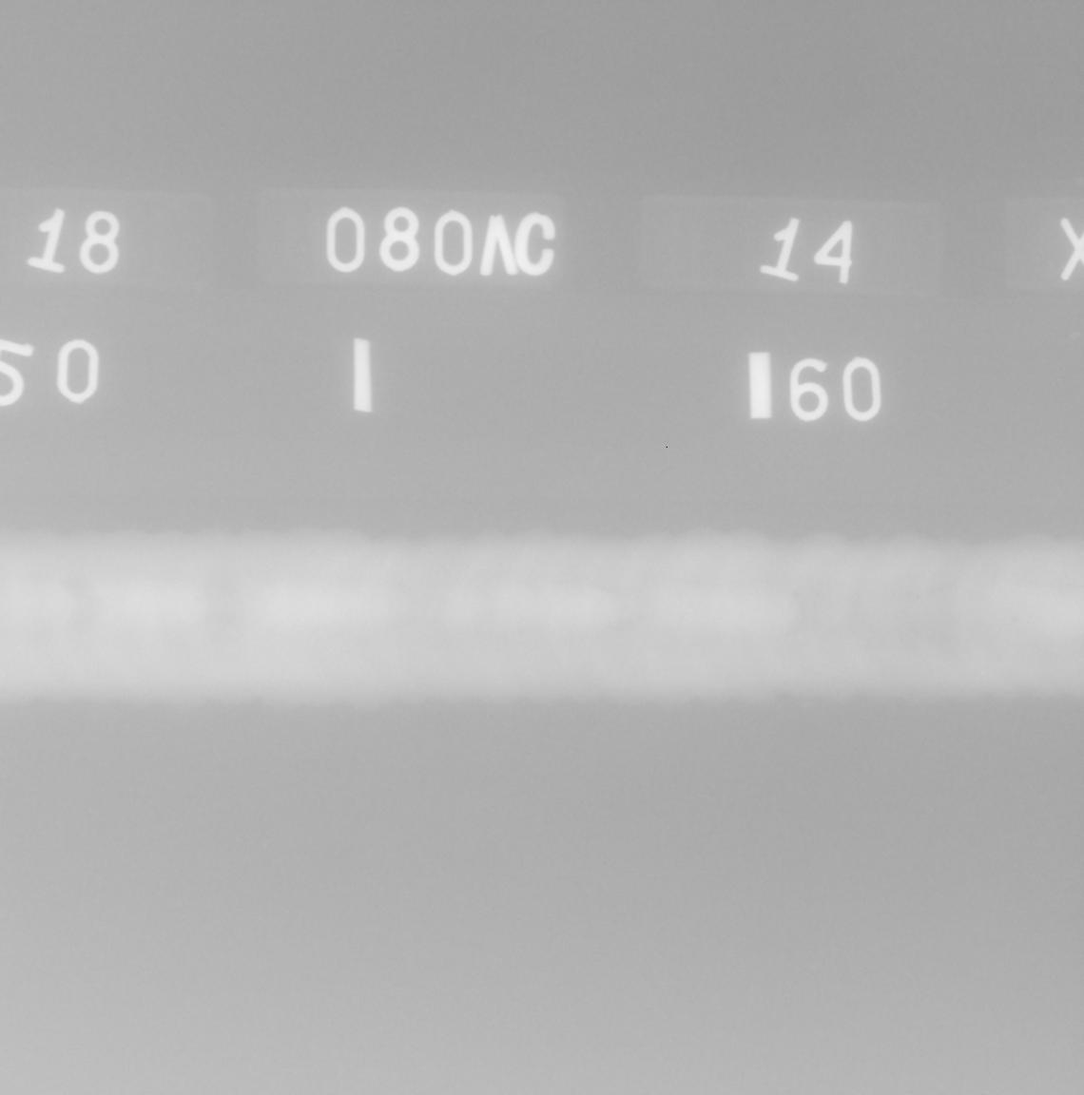Inclusion: (930, 583, 955, 596)
Pore/Porosity: (792, 589, 801, 599), (1012, 617, 1020, 623), (916, 595, 920, 599)
